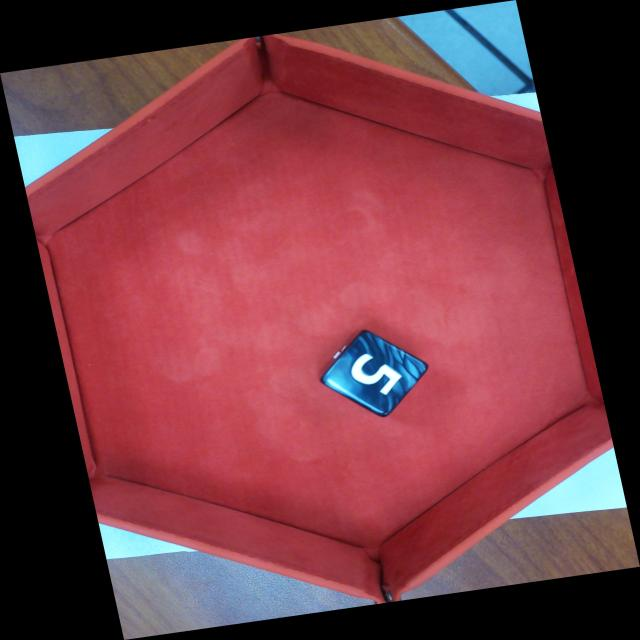dice: (314, 326, 434, 422)
